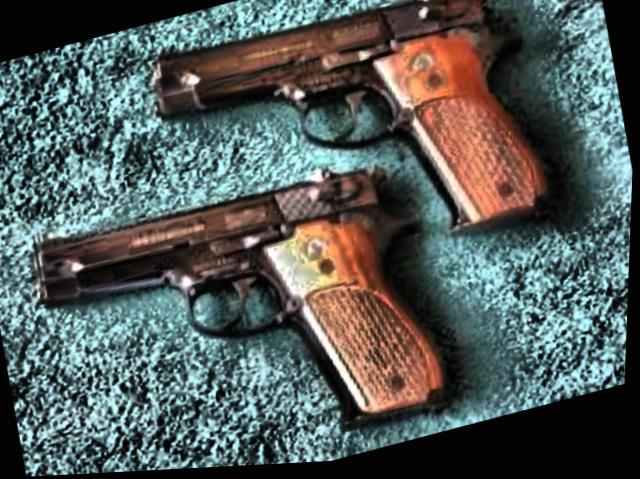pistol: (18, 141, 472, 478), (133, 0, 568, 320)
